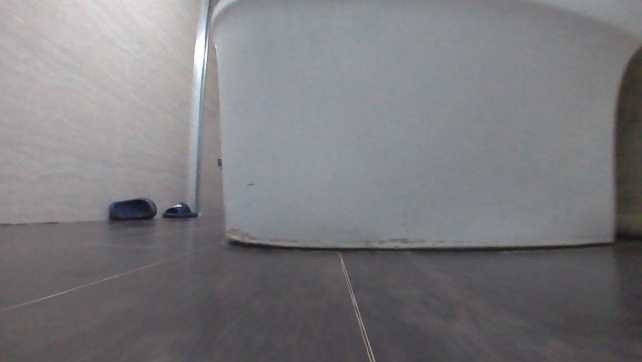slipper: (108, 194, 157, 222), (160, 198, 199, 219)
toilet: (207, 0, 640, 250)
